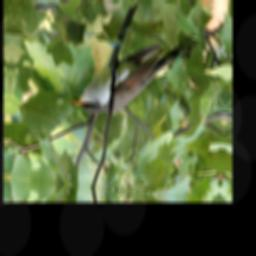Cuckoo: (72, 31, 197, 128)
